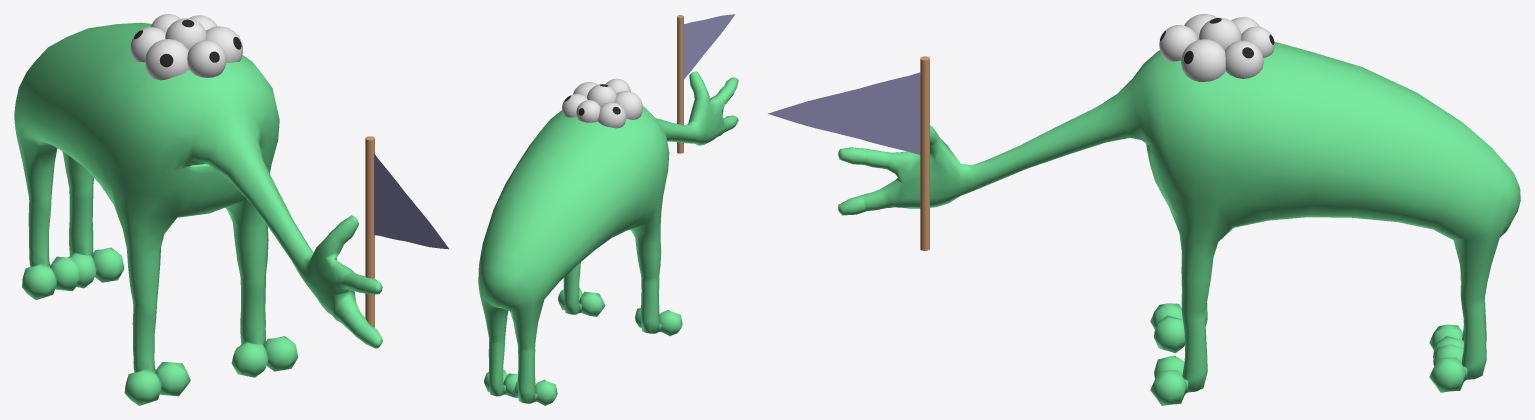
File: lisp_alien.fbx
The picture shows the model from 3 angles, left to right: view 1: azimuth 30°, elevation 25°; view 2: azimuth 150°, elevation 25°; view 3: azimuth 270°, elevation 25°; orthographic projection. The views are drawn at different scales.
Parts seen in each view (by area): view 1: Lisp_Body, pSphere2 (×5), pSphere1 (×5), Flag_Cloth, Flag_Stick; view 2: Lisp_Body, pSphere2 (×6), pSphere1 (×5), Flag_Cloth, Flag_Stick; view 3: Lisp_Body, Flag_Cloth, pSphere2 (×4), pSphere1 (×4), Flag_Stick.
Part boxes in pixels (x1=…): Lisp_Body: x1=14, y1=22, x2=382, y2=405; pSphere2 (×5): x1=130, y1=18, x2=242, y2=80; pSphere1 (×5): x1=131, y1=19, x2=242, y2=79; Flag_Cloth: x1=374, y1=153, x2=448, y2=249; Flag_Stick: x1=365, y1=136, x2=374, y2=327; Lisp_Body: x1=478, y1=71, x2=738, y2=405; pSphere2 (×6): x1=562, y1=78, x2=642, y2=128; pSphere1 (×5): x1=562, y1=84, x2=642, y2=127; Flag_Cloth: x1=684, y1=14, x2=734, y2=79; Flag_Stick: x1=677, y1=15, x2=683, y2=153; Lisp_Body: x1=838, y1=41, x2=1520, y2=405; Flag_Cloth: x1=768, y1=72, x2=920, y2=154; pSphere2 (×4): x1=1159, y1=17, x2=1263, y2=81; pSphere1 (×4): x1=1160, y1=18, x2=1262, y2=81; Flag_Stick: x1=920, y1=56, x2=929, y2=250.
Size of the model in its own units: 2.07 by 4.06 by 7.78.
